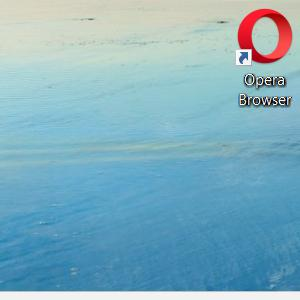opera: (235, 8, 293, 66)
